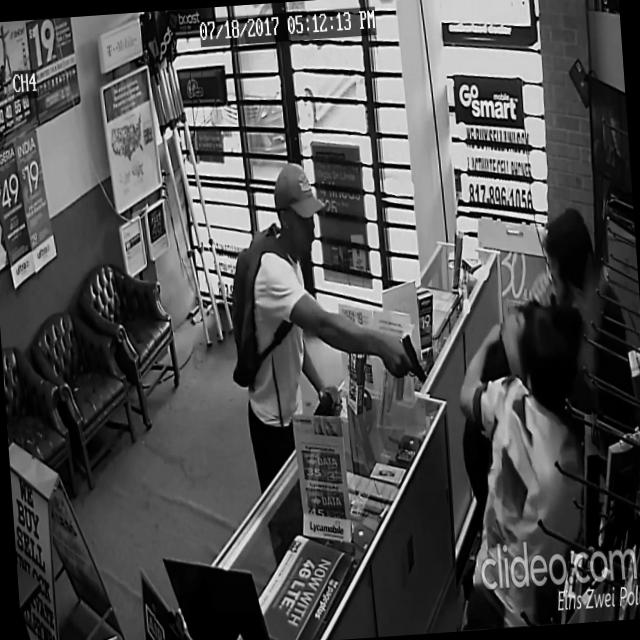gun: (400, 331, 428, 388)
person: (493, 202, 640, 626), (452, 291, 632, 630), (448, 296, 610, 630)
person with a gun: (220, 150, 433, 492)
